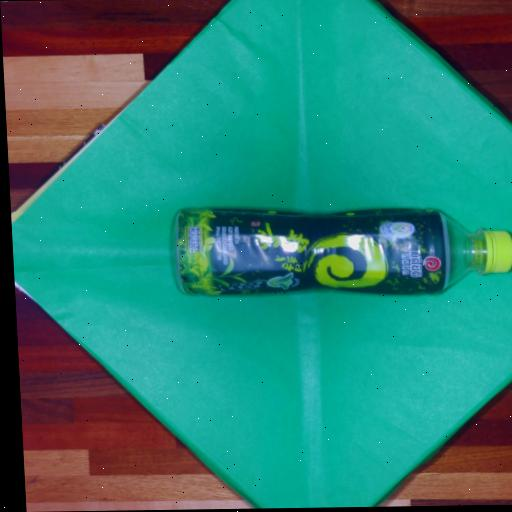bottle: (160, 185, 512, 316)
